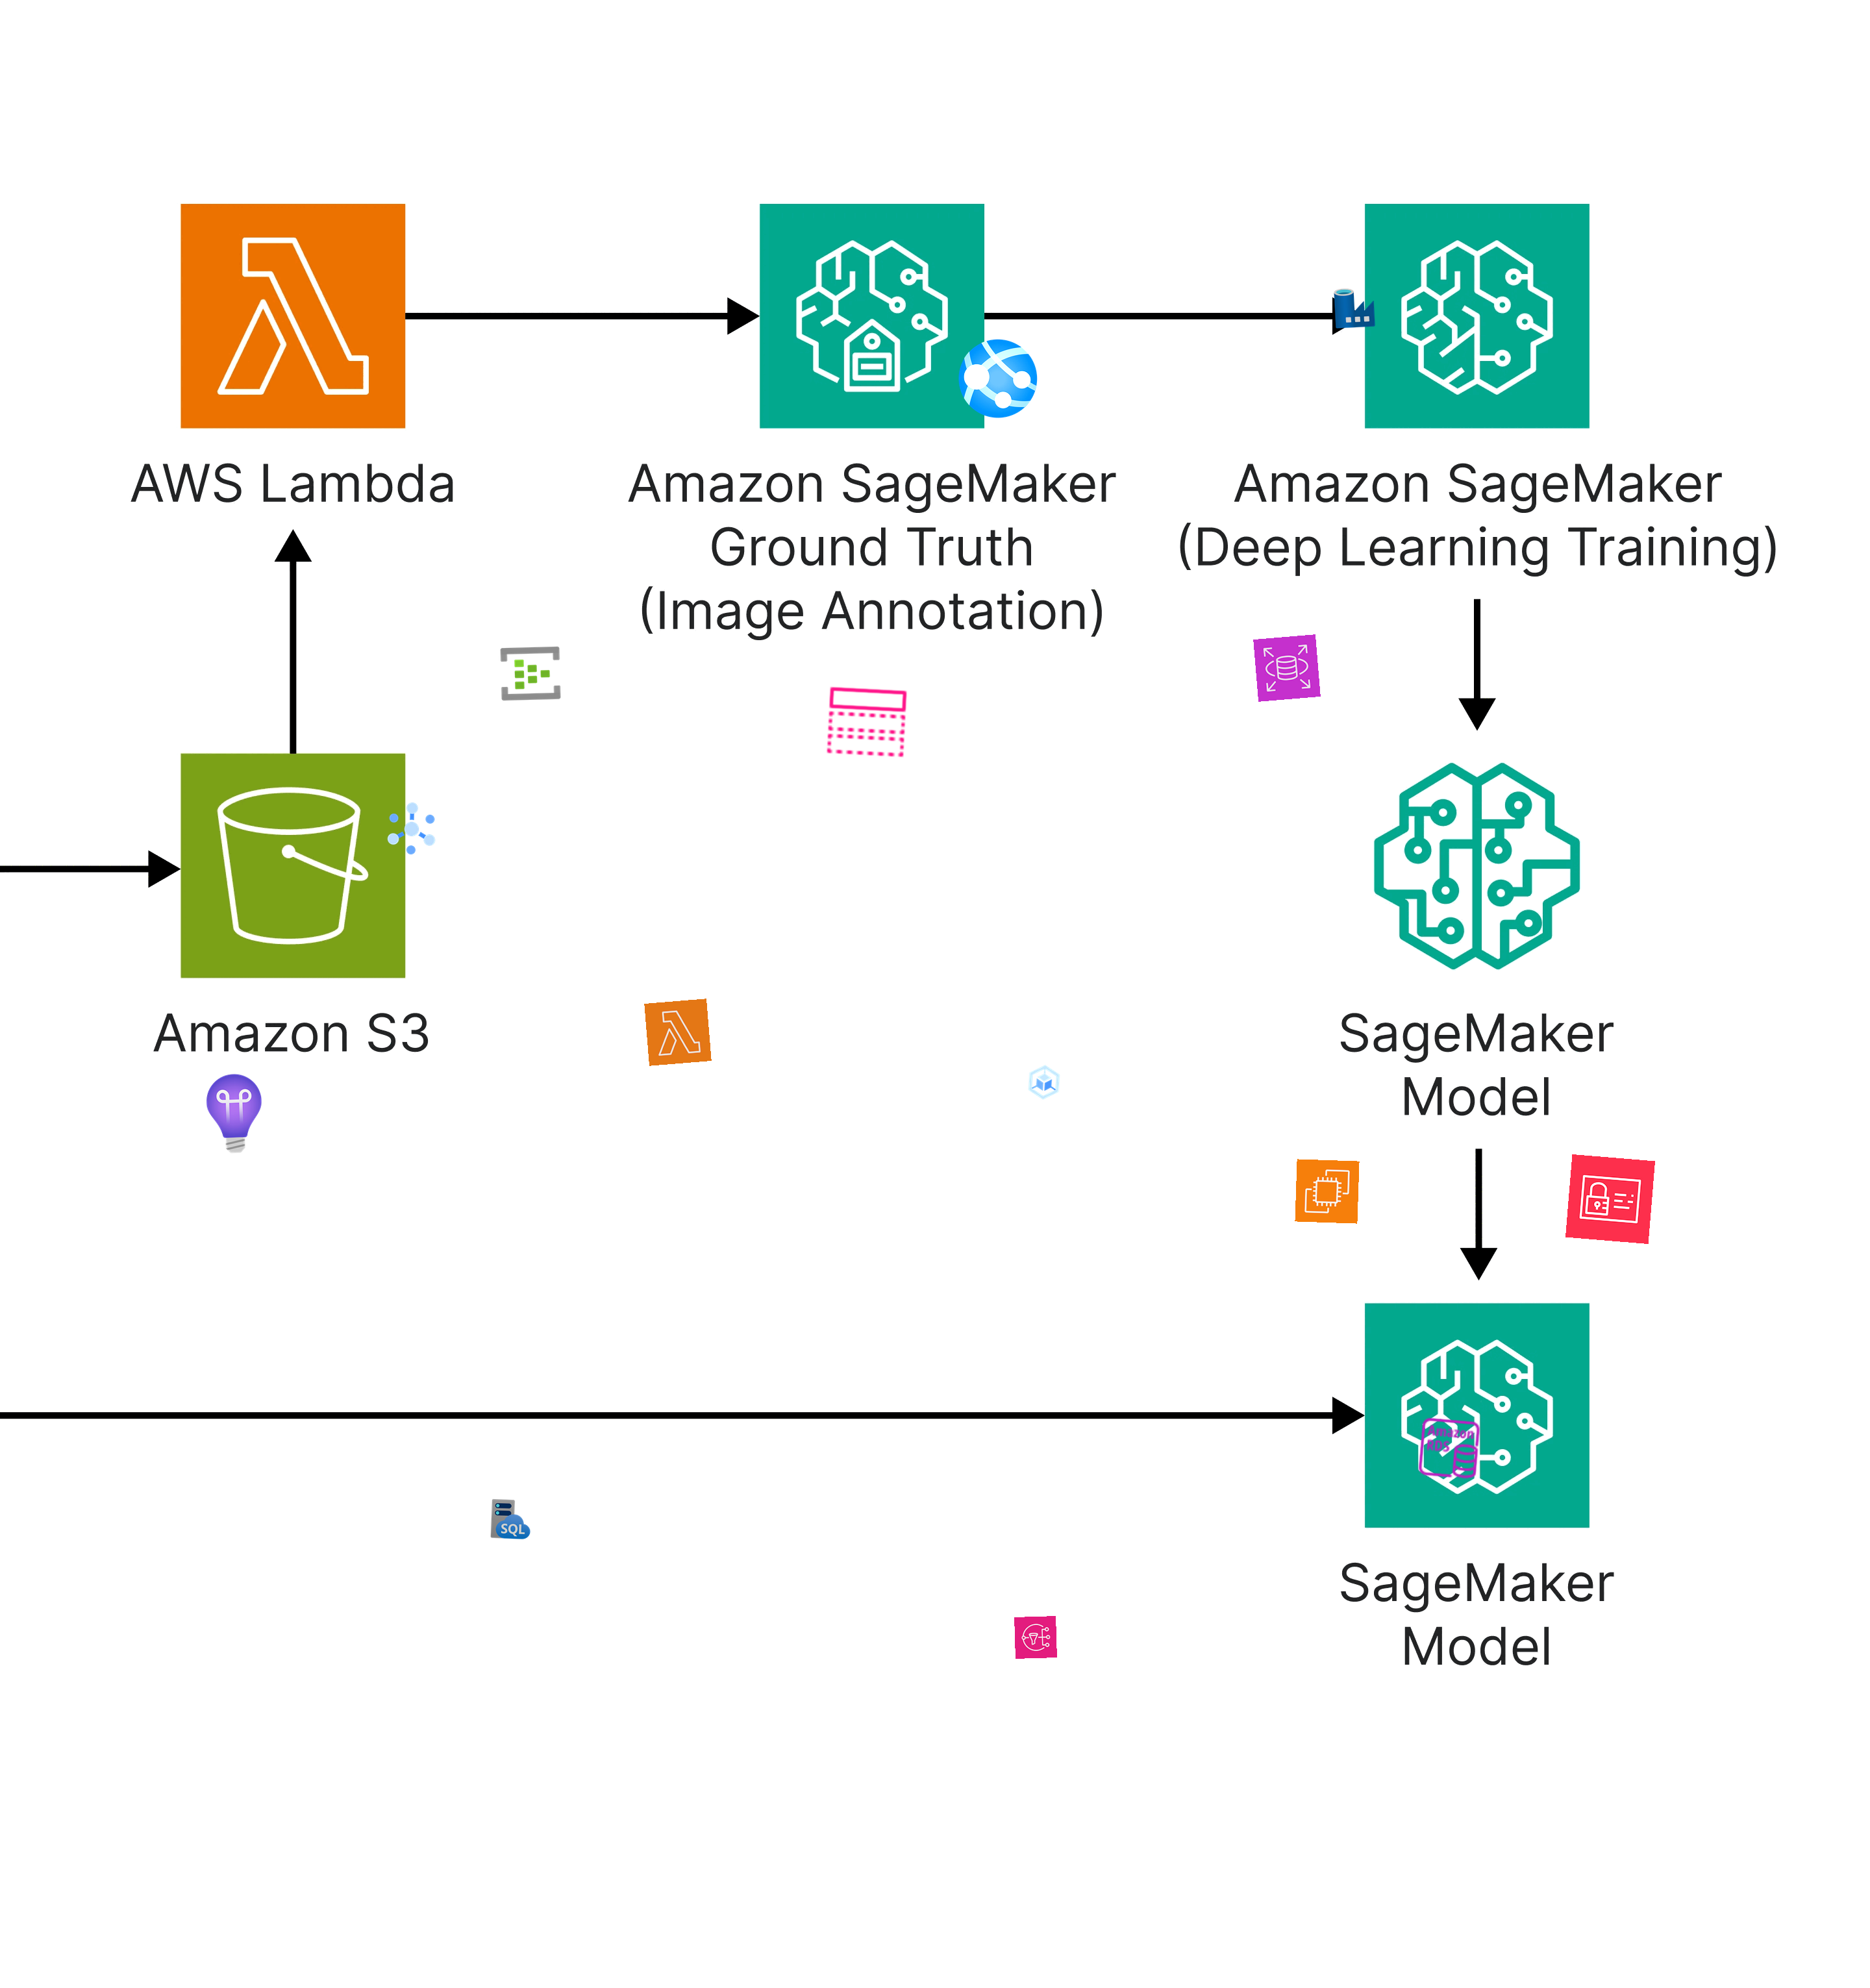aws_amazon_ec2: (1295, 1158, 1360, 1223)
aws_amazon_rds: (1253, 635, 1320, 701)
aws_amazon_simple_notification_service: (1014, 1615, 1056, 1659)
aws_aurora_amazon_rds_instance: (1415, 1415, 1483, 1482)
aws_identity_and_access_management: (1564, 1153, 1656, 1244)
aws_lambda: (643, 998, 712, 1065)
aws_simple_notification_service_topic: (823, 678, 910, 766)
azure_app_services: (956, 336, 1040, 420)
azure_application_insights: (192, 1070, 278, 1157)
azure_data_factories: (1332, 287, 1376, 330)
azure_event_hubs: (497, 642, 562, 707)
azure_sql_managed_instance: (489, 1498, 533, 1542)
gcp_google_kubernetes_engine: (1021, 1060, 1067, 1106)
gcp_pubsub: (380, 796, 445, 861)
